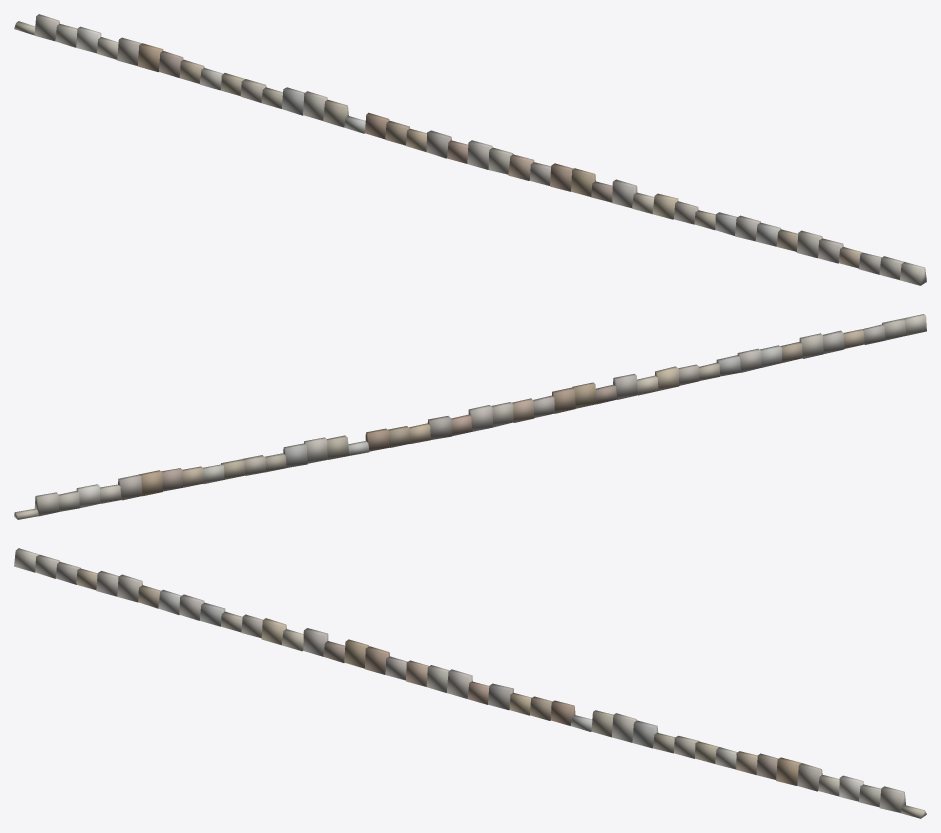
File: farm_6_8_far.glb
The picture shows the model from 3 angles, top to bottom: view 1: azimuth 90°, elevation 25°; view 2: azimuth 150°, elevation 25°; view 3: azimuth 270°, elevation 25°; orthographic projection. The views are drawn at different scales.
Visible parts, largest first — view 1: geometry_0; view 2: geometry_0; view 3: geometry_0.
Part boxes in pixels (x1=…): geometry_0: x1=14, y1=14, x2=926, y2=285; geometry_0: x1=14, y1=314, x2=926, y2=519; geometry_0: x1=14, y1=548, x2=926, y2=818.
Size of the model in its own units: 39.3 by 1.86 by 58.81.
